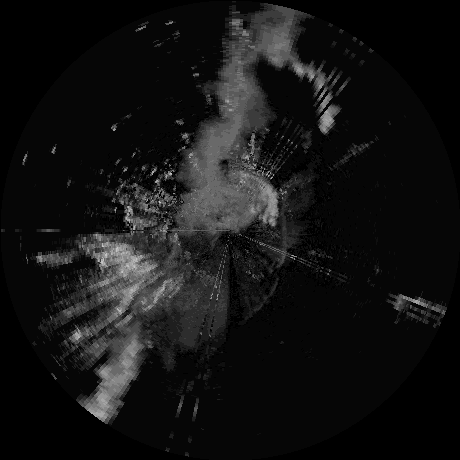frontgust: (277, 197, 288, 269)
